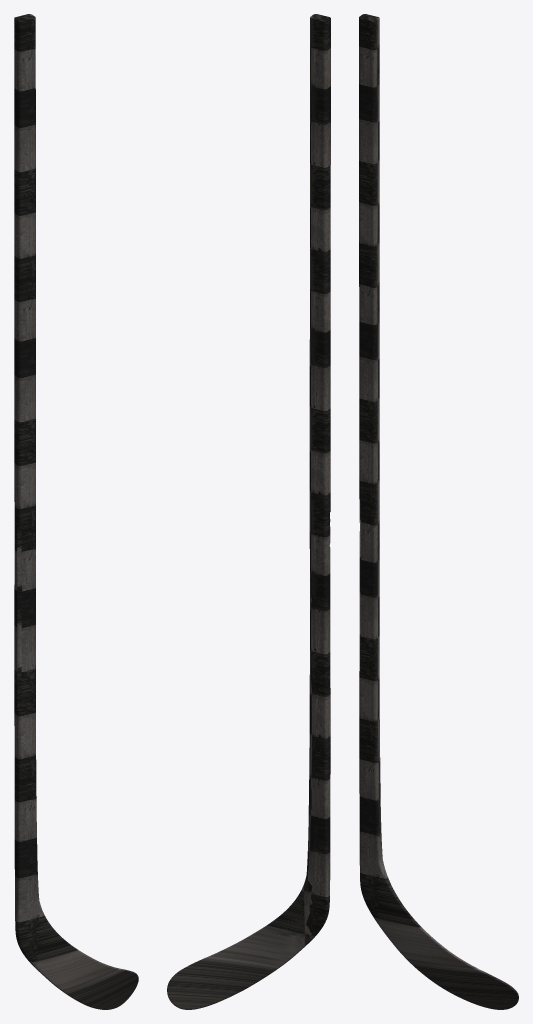
3 views of the same model, side by side, from view 1: azimuth 30°, elevation 25°; view 2: azimuth 150°, elevation 25°; view 3: azimuth 330°, elevation 25° (orthographic). The views are drawn at different scales.
Visible parts, largest first — view 1: geometry_0; view 2: geometry_0; view 3: geometry_0.
Part boxes in pixels (x1,y1,x2,y2): geometry_0: (14,14,138,1009); geometry_0: (167,14,330,1009); geometry_0: (359,14,518,1009).
Size of the model in its own units: 241 by 1650 by 79.9.
Materials: 1 (1 with a texture image).
